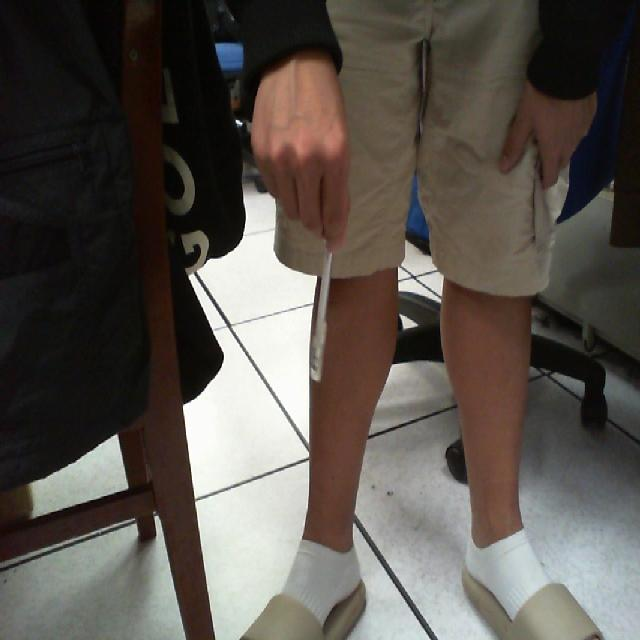Pen: (283, 210, 356, 394)
